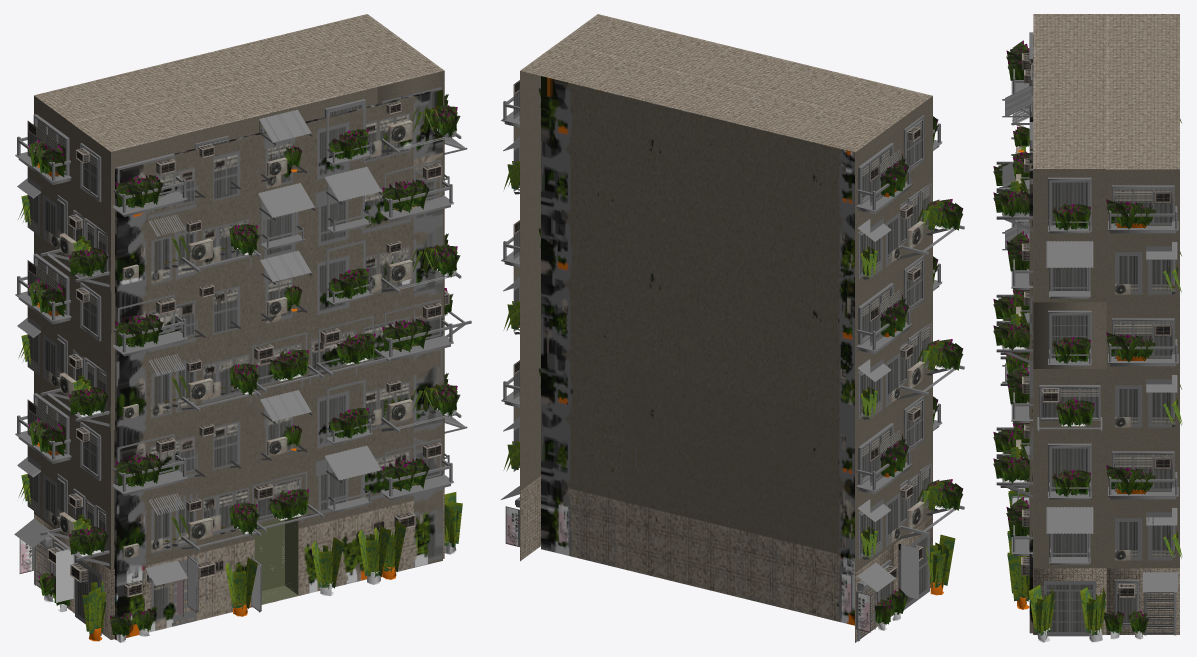
Rendered from nc_building_02.fbx.
The picture shows the model from 3 angles, left to right: view 1: azimuth 30°, elevation 25°; view 2: azimuth 150°, elevation 25°; view 3: azimuth 270°, elevation 25°; orthographic projection. The views are drawn at different scales.
Visible parts, largest first — view 1: nc_building_02_LOD0; view 2: nc_building_02_LOD0; view 3: nc_building_02_LOD0.
Boxes of the visible parts, bbox=[...] form: nc_building_02_LOD0: bbox=[14, 14, 471, 642]; nc_building_02_LOD0: bbox=[501, 14, 964, 642]; nc_building_02_LOD0: bbox=[993, 14, 1182, 642].
Size of what is drawn, in the model's own units: 12.02 by 14.01 by 5.17.
